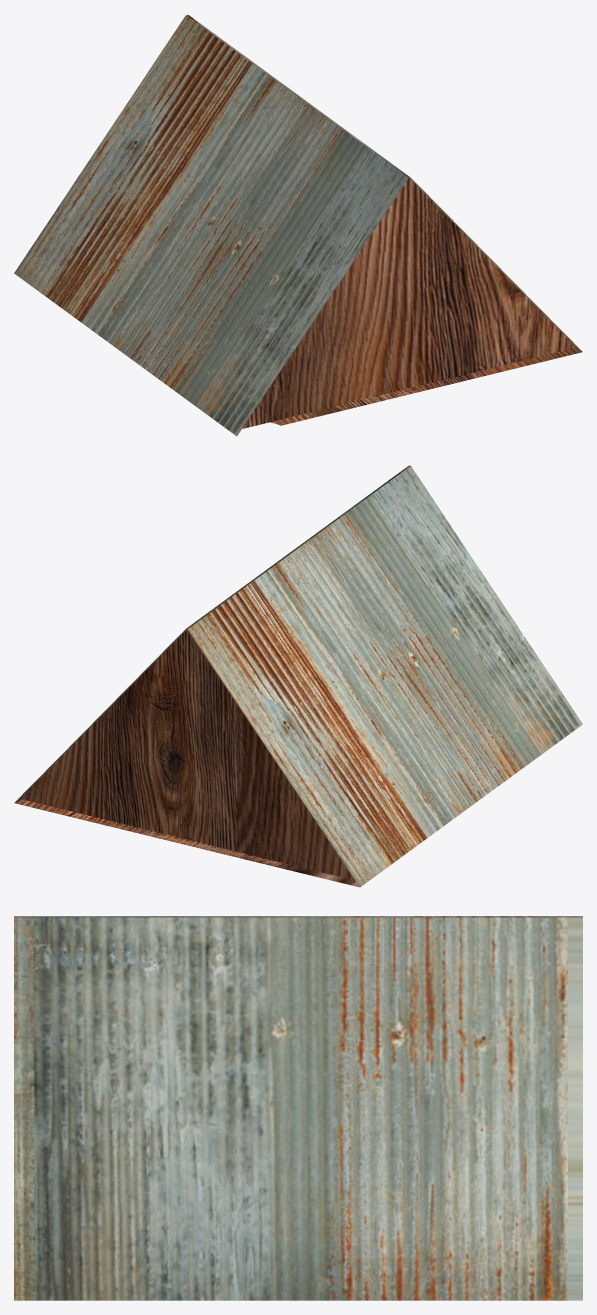
Rendered from roof.fbx.
3 views of the same model, one above another, from view 1: azimuth 30°, elevation 25°; view 2: azimuth 150°, elevation 25°; view 3: azimuth 270°, elevation 25° (orthographic). The views are drawn at different scales.
Parts seen in each view (by area): view 1: Cube; view 2: Cube; view 3: Cube.
Boxes of the visible parts, x1,y1,x2,y2 form: Cube: [14, 14, 582, 436]; Cube: [14, 465, 582, 887]; Cube: [14, 916, 582, 1300].
Bounding box in the file's own units: 1821 × 1088 × 2032.
